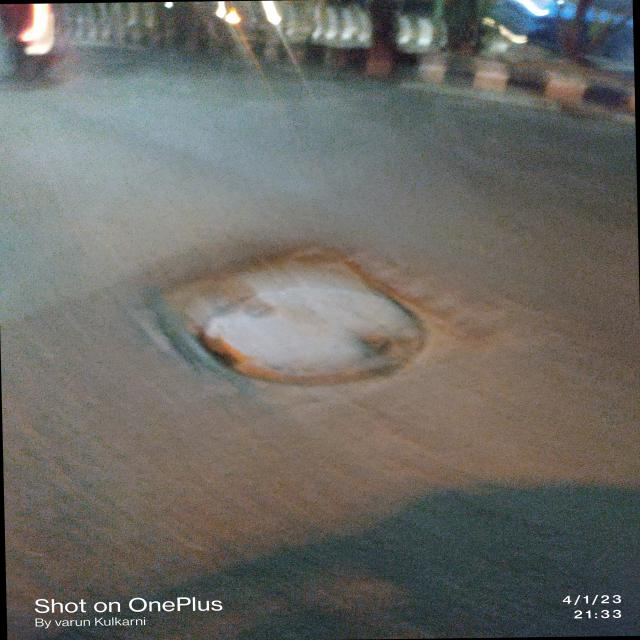potholes: (168, 261, 426, 394)
